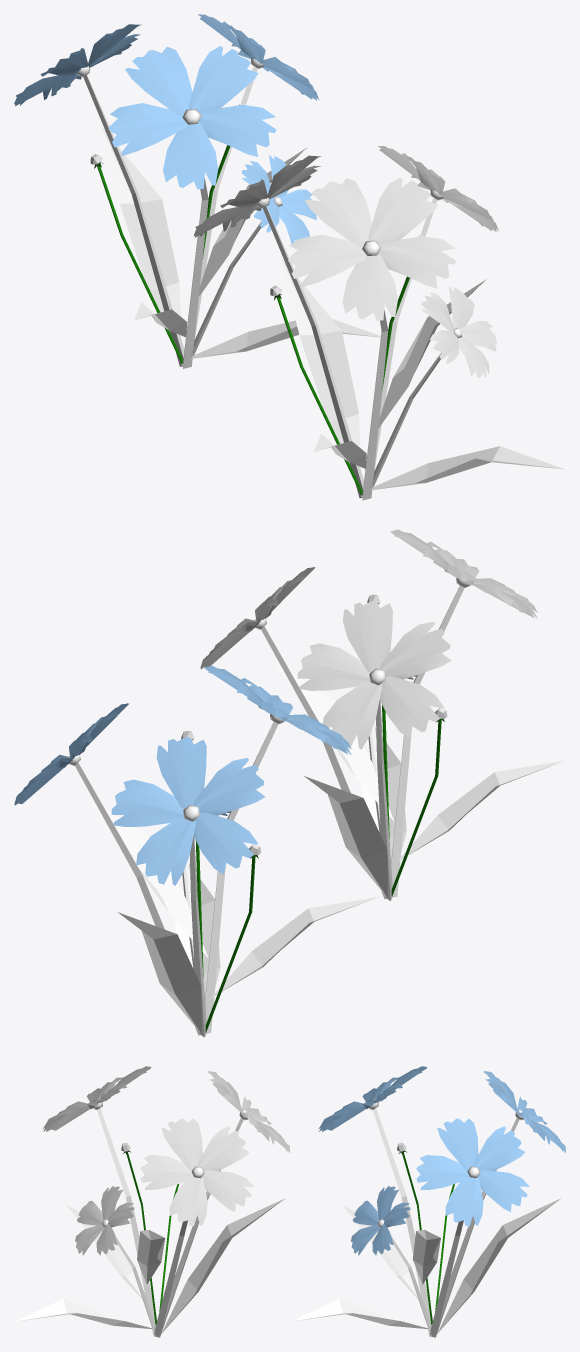
The model's file is Flower.glb.
The picture shows the model from 3 angles, top to bottom: view 1: azimuth 30°, elevation 25°; view 2: azimuth 150°, elevation 25°; view 3: azimuth 270°, elevation 25°; orthographic projection. The views are drawn at different scales.
Parts seen in each view (by area): view 1: Flowerss, Flowers; view 2: Flowers, Flowerss; view 3: Flowers, Flowerss.
Part boxes in pixels (x1=…): Flowerss: x1=193, y1=146, x2=564, y2=500; Flowers: x1=14, y1=14, x2=380, y2=368; Flowers: x1=14, y1=665, x2=378, y2=1037; Flowerss: x1=200, y1=529, x2=565, y2=901; Flowers: x1=290, y1=1066, x2=565, y2=1337; Flowerss: x1=15, y1=1066, x2=290, y2=1337.
Bounding box in the file's own units: 1.44 × 1.77 × 3.47.
